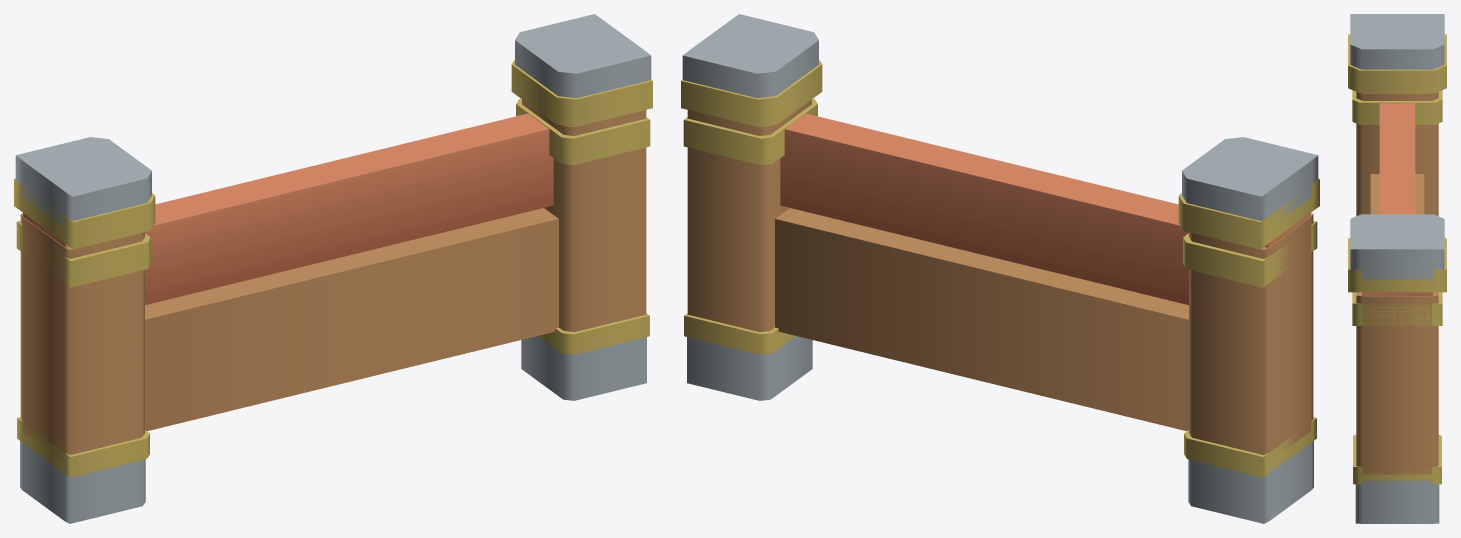
The model's file is isolated.glb.
The picture shows the model from 3 angles, left to right: view 1: azimuth 30°, elevation 25°; view 2: azimuth 150°, elevation 25°; view 3: azimuth 270°, elevation 25°; orthographic projection. The views are drawn at different scales.
Parts seen in each view (by area): view 1: upgrade_wall_level_6, wood-structure-part.005, upgrade_wall_level_4, upgrade_wall_level_8, upgrade_wall_level_7, upgrade_wall_level_5, upgrade_wall_level_2; view 2: upgrade_wall_level_6, wood-structure-part.005, upgrade_wall_level_4, upgrade_wall_level_8, upgrade_wall_level_7, upgrade_wall_level_5, upgrade_wall_level_2; view 3: upgrade_wall_level_4, upgrade_wall_level_5, upgrade_wall_level_7, upgrade_wall_level_8, wood-structure-part.005, upgrade_wall_level_2, upgrade_wall_level_6.
Boxes of the visible parts, <box> form: upgrade_wall_level_6: <box>145,208,558,431</box>; wood-structure-part.005: <box>23,113,553,304</box>; upgrade_wall_level_4: <box>20,99,646,460</box>; upgrade_wall_level_8: <box>14,40,652,523</box>; upgrade_wall_level_7: <box>15,14,651,227</box>; upgrade_wall_level_5: <box>16,98,650,460</box>; upgrade_wall_level_2: <box>20,336,646,523</box>; upgrade_wall_level_6: <box>775,208,1188,431</box>; wood-structure-part.005: <box>780,113,1310,304</box>; upgrade_wall_level_4: <box>687,100,1313,454</box>; upgrade_wall_level_8: <box>681,41,1319,523</box>; upgrade_wall_level_7: <box>682,14,1318,223</box>; upgrade_wall_level_5: <box>683,98,1317,454</box>; upgrade_wall_level_2: <box>687,336,1313,523</box>; upgrade_wall_level_4: <box>1356,92,1438,474</box>; upgrade_wall_level_5: <box>1352,90,1442,474</box>; upgrade_wall_level_7: <box>1350,14,1444,279</box>; upgrade_wall_level_8: <box>1348,34,1446,523</box>; wood-structure-part.005: <box>1362,103,1432,295</box>; upgrade_wall_level_2: <box>1355,480,1439,523</box>; upgrade_wall_level_6: <box>1370,174,1424,214</box>.
Size of the model in its own units: 1 by 0.545 by 0.178.
Materials: 2 (1 with a texture image).
